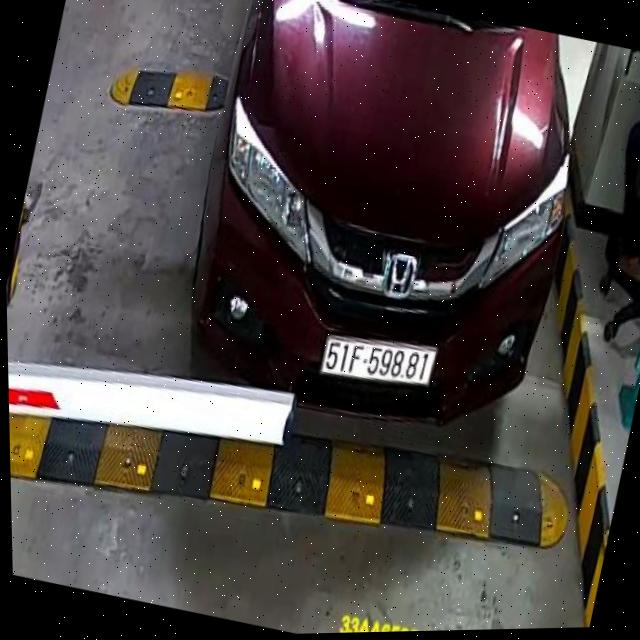car: (149, 0, 623, 476)
plate: (309, 319, 444, 400)
